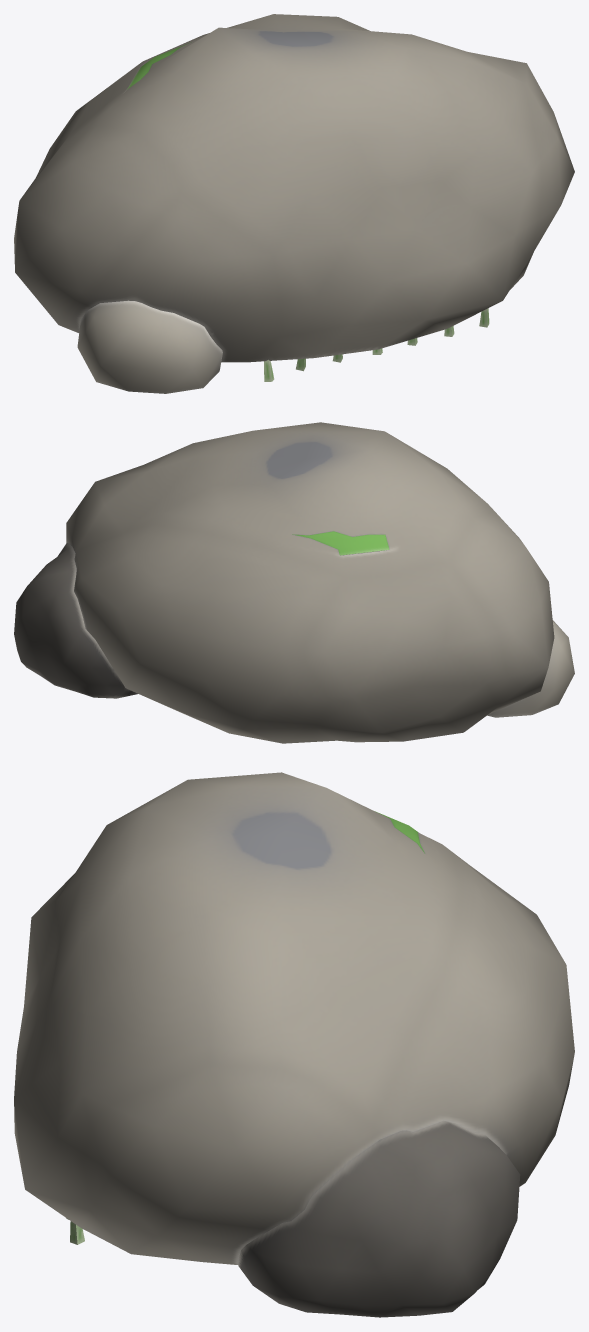
The model's file is rock_large.glb.
3 views of the same model, one above another, from view 1: azimuth 30°, elevation 25°; view 2: azimuth 150°, elevation 25°; view 3: azimuth 270°, elevation 25° (orthographic). The views are drawn at different scales.
Visible parts, largest first — view 1: SM_RockLarge; view 2: SM_RockLarge; view 3: SM_RockLarge.
Part boxes in pixels (x1,y1,x2,y2): SM_RockLarge: [14, 14, 574, 393]; SM_RockLarge: [14, 422, 574, 743]; SM_RockLarge: [14, 772, 574, 1317].
Size of what is drawn, in the model's own units: 3.73 by 1.76 by 2.58.
1 material, 1 textured.
